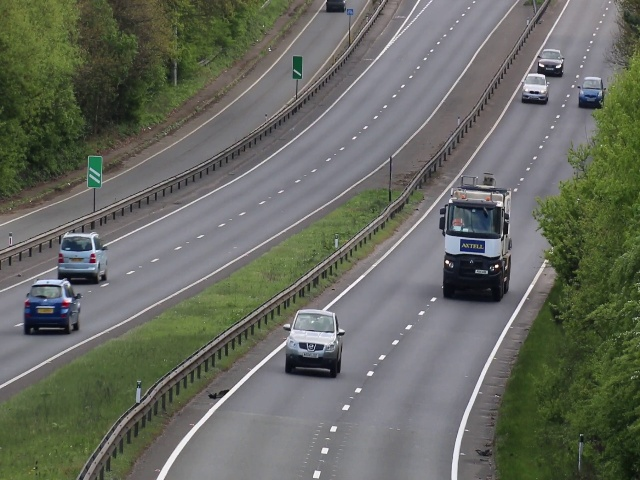car: (441, 200, 507, 303), (283, 306, 341, 378), (23, 276, 82, 337), (58, 233, 110, 283), (520, 72, 550, 104), (536, 46, 565, 79), (579, 80, 602, 109)
